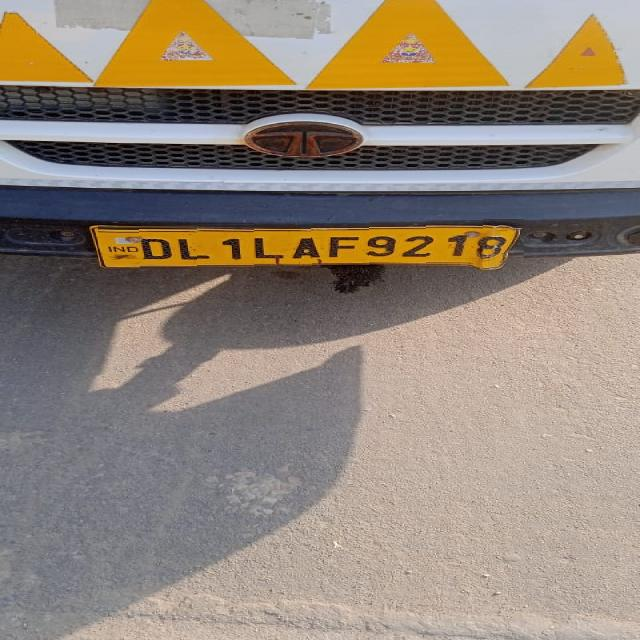License-plate: (98, 221, 524, 268)
